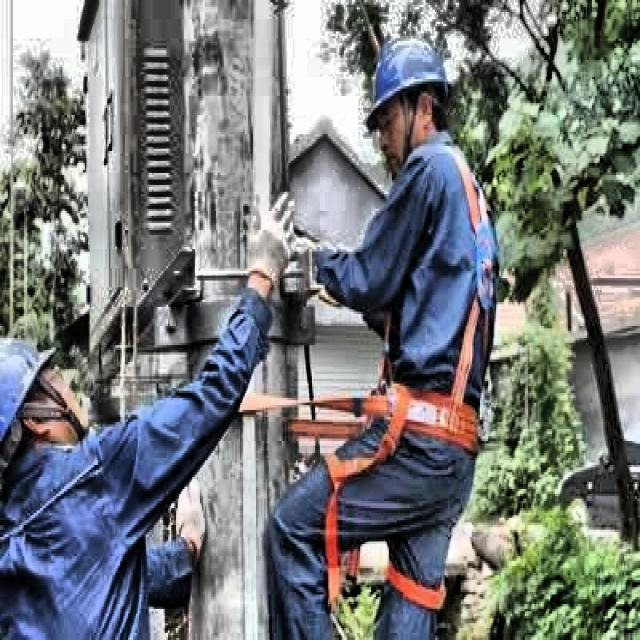helmet: (363, 24, 458, 173), (0, 333, 91, 465)
